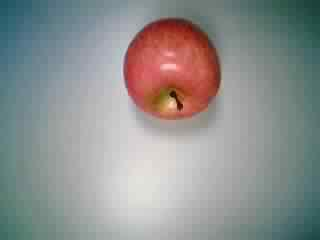apple: (116, 17, 221, 119)
